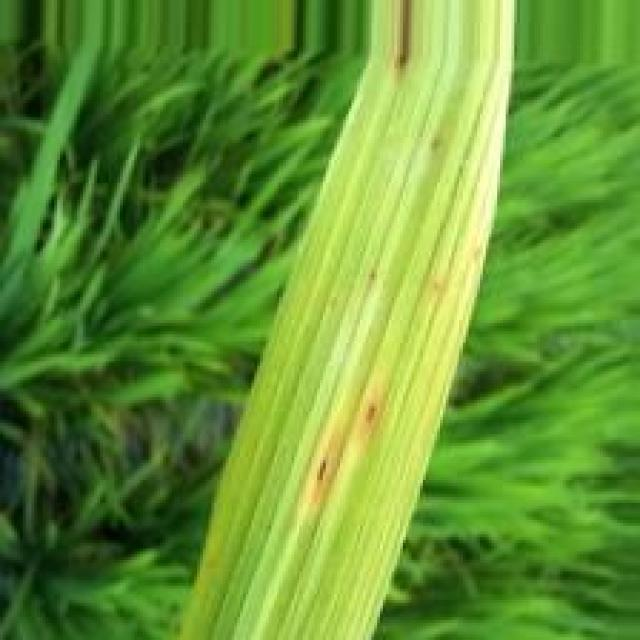Brown_Spot: (306, 442, 345, 509), (389, 0, 414, 75), (356, 399, 388, 441)
